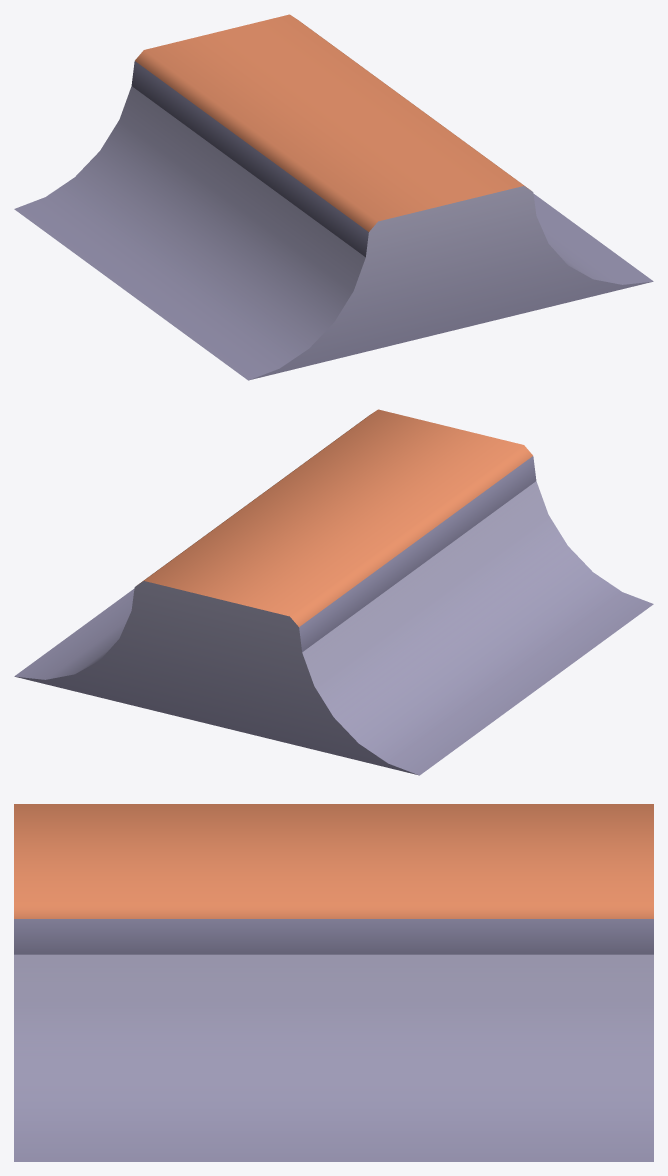
Rendered from obstacle-middle.fbx.
3 views of the same model, one above another, from view 1: azimuth 30°, elevation 25°; view 2: azimuth 150°, elevation 25°; view 3: azimuth 270°, elevation 25° (orthographic). The views are drawn at different scales.
Visible parts, largest first — view 1: obstacle-middle; view 2: obstacle-middle; view 3: obstacle-middle.
Part boxes in pixels (left/top/right/bottom): obstacle-middle: left=14, top=14, right=653, bottom=380; obstacle-middle: left=14, top=409, right=653, bottom=775; obstacle-middle: left=14, top=804, right=653, bottom=1161.
Size of the model in its own units: 100 by 30 by 100.
Materials: 1 (1 with a texture image).
